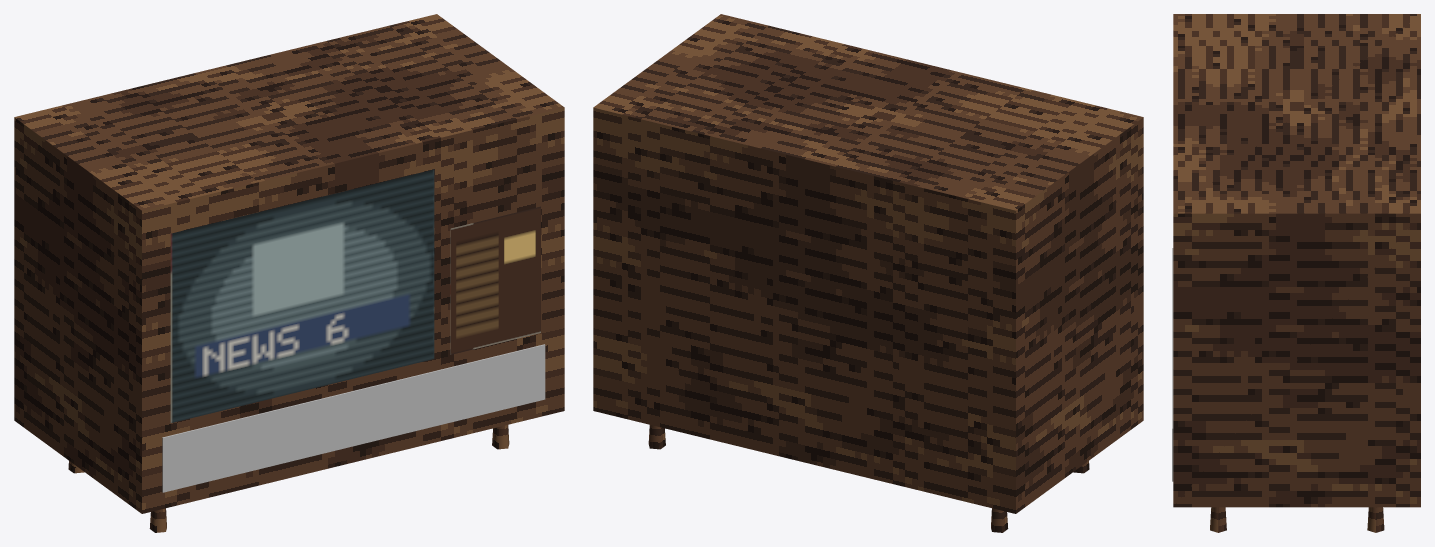
File: RES_TV_CRT_Console.obj
3 renders of one model, left to right at view 1: azimuth 30°, elevation 25°; view 2: azimuth 150°, elevation 25°; view 3: azimuth 270°, elevation 25°, orthographic. The views are drawn at different scales.
Parts seen in each view (by area): view 1: RES_TV_CRT_Console_Mesh_M_Furn_WoodDark, RES_TV_CRT_Console_Mesh_M_Res_DetailAtlasGlow, RES_TV_CRT_Console_Mesh_M_Furn_FabricUpholstery, RES_TV_CRT_Console_Mesh_M_Res_DetailAtlas; view 2: RES_TV_CRT_Console_Mesh_M_Furn_WoodDark; view 3: RES_TV_CRT_Console_Mesh_M_Furn_WoodDark, RES_TV_CRT_Console_Mesh_M_Furn_FabricUpholstery.
Boxes of the visible parts, left/top/right/bottom form: RES_TV_CRT_Console_Mesh_M_Furn_WoodDark: left=14, top=14, right=564, bottom=532; RES_TV_CRT_Console_Mesh_M_Res_DetailAtlasGlow: left=170, top=169, right=434, bottom=422; RES_TV_CRT_Console_Mesh_M_Furn_FabricUpholstery: left=162, top=344, right=545, bottom=492; RES_TV_CRT_Console_Mesh_M_Res_DetailAtlas: left=450, top=206, right=540, bottom=354; RES_TV_CRT_Console_Mesh_M_Furn_WoodDark: left=593, top=14, right=1143, bottom=532; RES_TV_CRT_Console_Mesh_M_Furn_WoodDark: left=1173, top=14, right=1420, bottom=532; RES_TV_CRT_Console_Mesh_M_Furn_FabricUpholstery: left=1172, top=248, right=1173, bottom=481.
Size of the model in its own units: 1.05 by 0.82 by 0.553.
